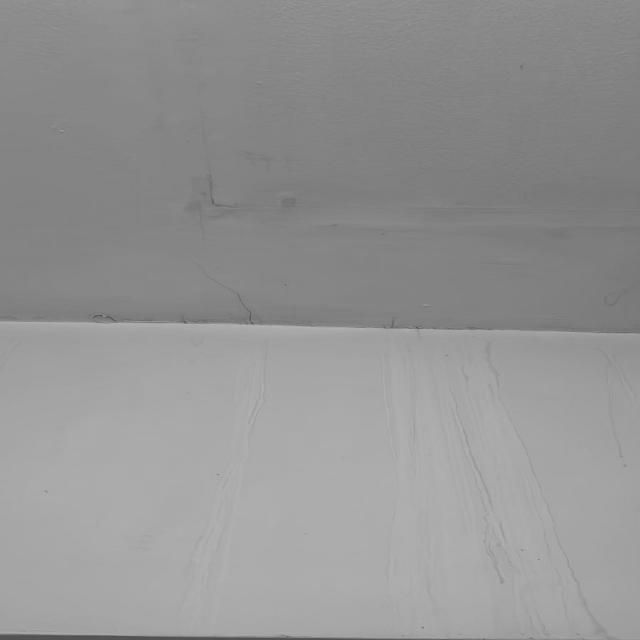stain marks: (161, 65, 640, 247), (43, 282, 640, 342)
